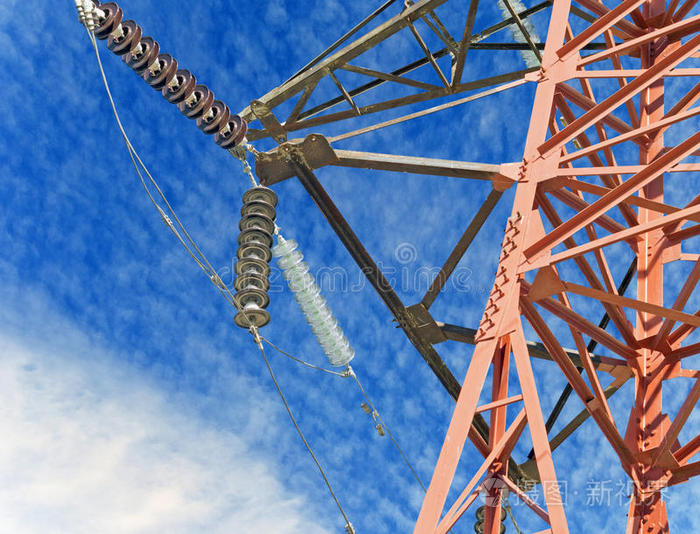insulator: (90, 6, 249, 148), (274, 238, 356, 366), (230, 183, 279, 331)
